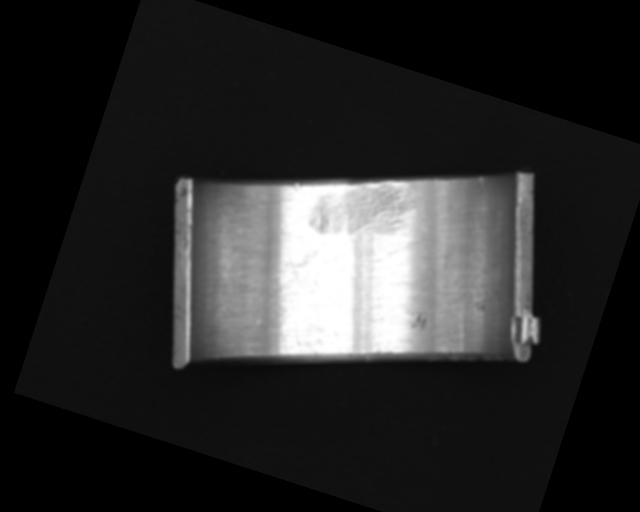blot: (272, 237, 330, 299)
bruise: (408, 310, 429, 333), (289, 180, 303, 192)
nick: (477, 175, 489, 189)
scratch: (304, 160, 424, 261)
